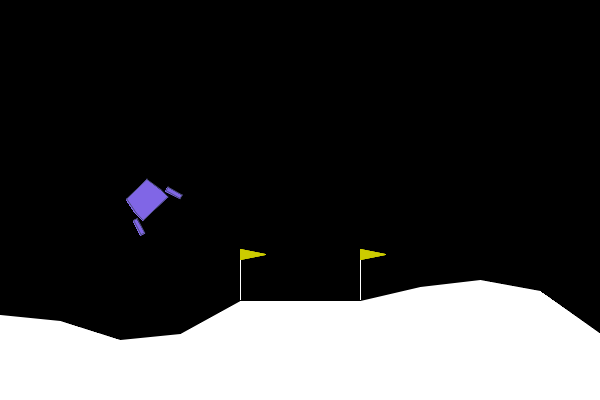lander: (113, 167, 184, 238)
